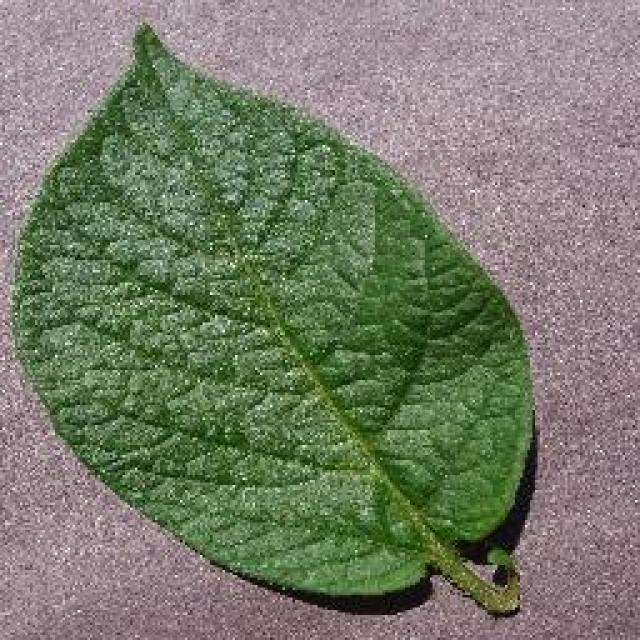Potato: (7, 17, 535, 615)
